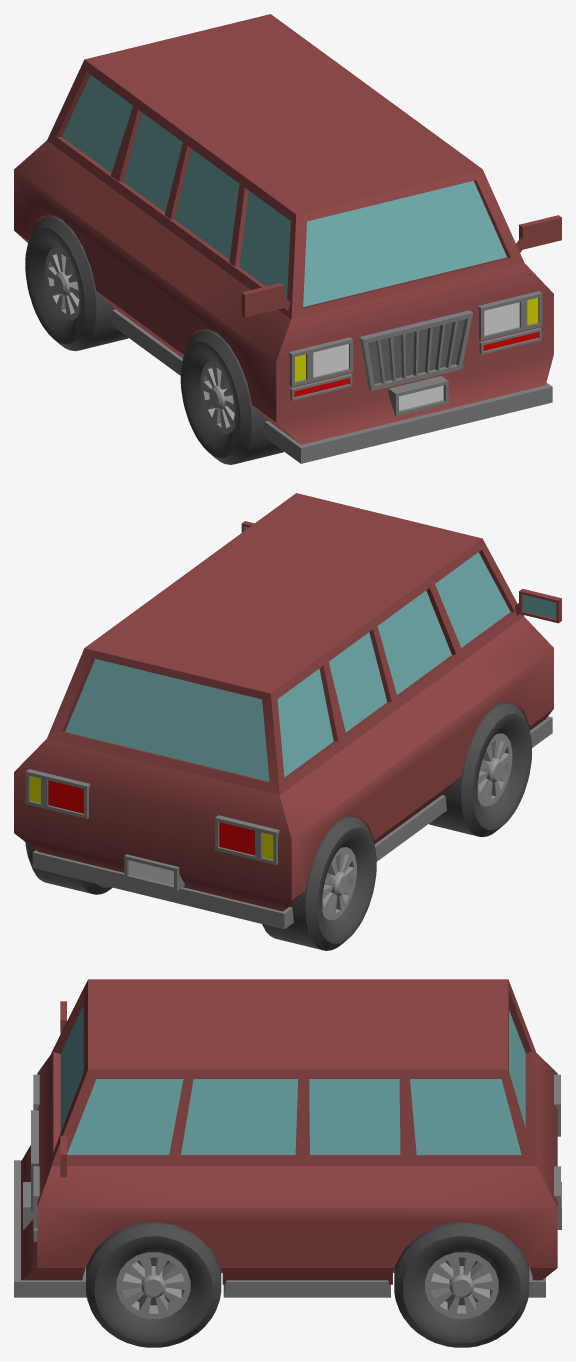
File: Carritovaan.fbx
3 views of the same model, one above another, from view 1: azimuth 30°, elevation 25°; view 2: azimuth 150°, elevation 25°; view 3: azimuth 270°, elevation 25° (orthographic).
Parts seen in each view (by area): view 1: polySurface1, pCylinder2, polySurface2, pCube2, pCube1, pCube5, pCube4, pCube3; view 2: polySurface1, pCylinder2, polySurface2, pCube1, pCube4, pCube5; view 3: polySurface1, pCylinder2, polySurface2, pCube1, pCube2, pCube5.
Boxes of the visible parts, x1,y1,x2,y2 form: polySurface1: (14, 14, 553, 444); pCylinder2: (25, 216, 283, 464); polySurface2: (111, 309, 552, 463); pCube2: (359, 310, 473, 391); pCube1: (288, 291, 542, 386); pCube5: (241, 215, 561, 317); pCube4: (388, 376, 448, 416); pCube3: (290, 327, 541, 400); polySurface1: (14, 493, 553, 911); pCylinder2: (25, 702, 531, 950); polySurface2: (32, 716, 552, 929); pCube1: (25, 769, 279, 864); pCube4: (124, 854, 184, 891); pCube5: (241, 521, 561, 623); polySurface1: (21, 979, 557, 1284); pCylinder2: (86, 1222, 529, 1347); polySurface2: (14, 1160, 545, 1297); pCube1: (33, 1074, 560, 1228); pCube2: (31, 1110, 38, 1211); pCube5: (60, 1001, 66, 1177).
Bounding box in the file's own units: 3.07 × 2.39 × 4.63.
